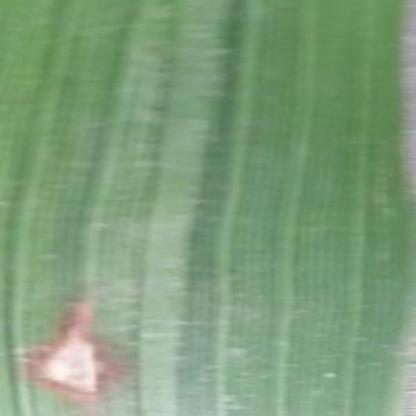Rice blast: (23, 294, 131, 416)
